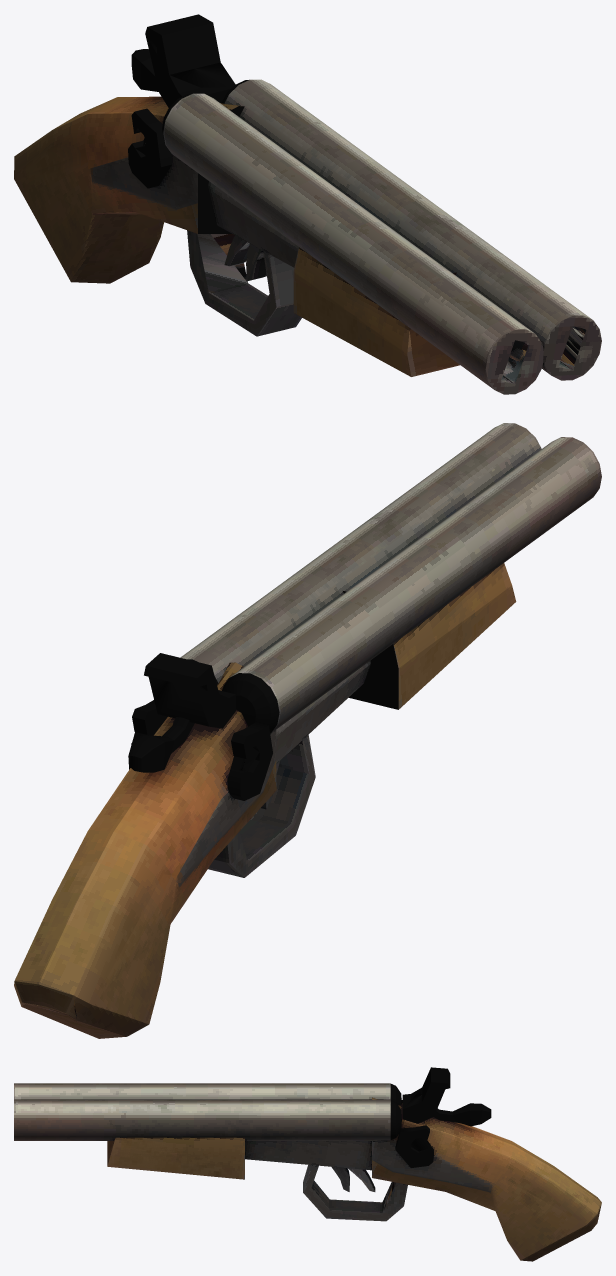
File: item_shotgun_sawed.glb
3 views of the same model, one above another, from view 1: azimuth 30°, elevation 25°; view 2: azimuth 150°, elevation 25°; view 3: azimuth 270°, elevation 25° (orthographic). The views are drawn at different scales.
Visible parts, largest first — view 1: ShotgunSawed; view 2: ShotgunSawed; view 3: ShotgunSawed.
Part boxes in pixels (bbox=[...]): ShotgunSawed: bbox=[14, 14, 601, 394]; ShotgunSawed: bbox=[14, 423, 601, 1038]; ShotgunSawed: bbox=[14, 1067, 601, 1261].
Size of the model in its own units: 0.0642 by 0.1664 by 0.4816.
1 material, 1 textured.
